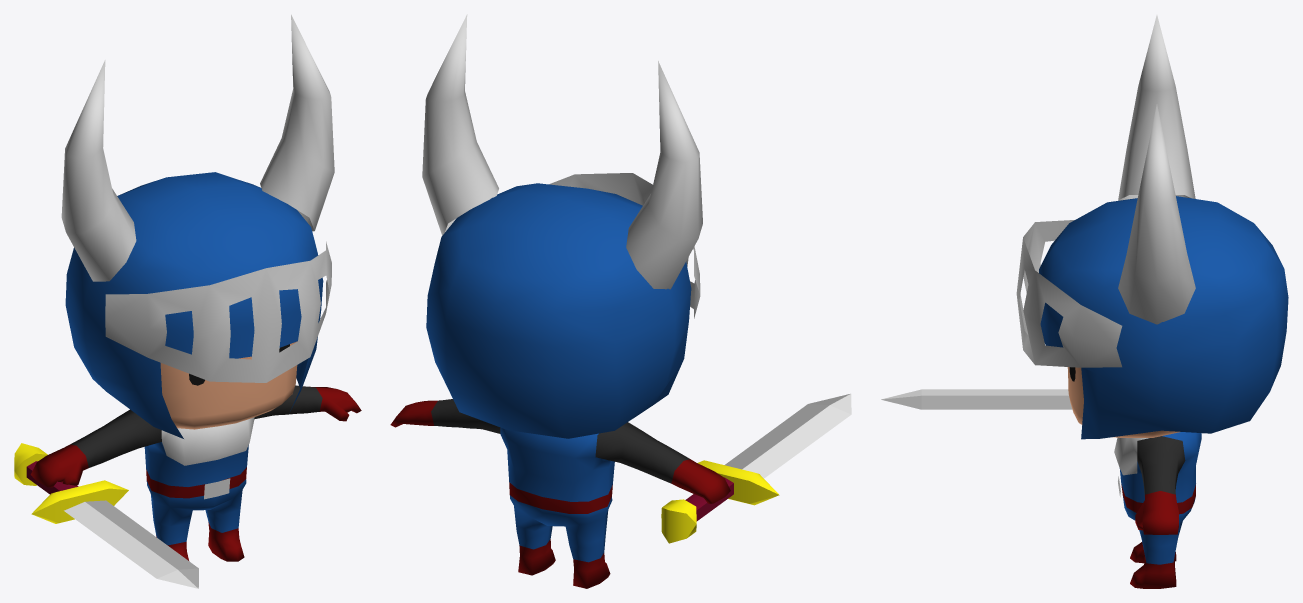
The model's file is jk cha test.FBX.
3 views of the same model, side by side, from view 1: azimuth 30°, elevation 25°; view 2: azimuth 150°, elevation 25°; view 3: azimuth 270°, elevation 25° (orthographic). The views are drawn at different scales.
Visible parts, largest first — view 1: Object064, Object063, Box002; view 2: Object064, Object063, Box002; view 3: Object064, Object063, Box002.
Part boxes in pixels (<box>): Object064: <box>61,14,334,438</box>; Object063: <box>30,385,361,561</box>; Box002: <box>14,443,198,588</box>; Object064: <box>422,14,702,438</box>; Object063: <box>390,399,730,588</box>; Box002: <box>661,393,851,543</box>; Object064: <box>1016,15,1288,439</box>; Object063: <box>1114,432,1201,588</box>; Box002: <box>881,389,1072,409</box>.
Bounding box in the file's own units: 145 × 150 × 207.
